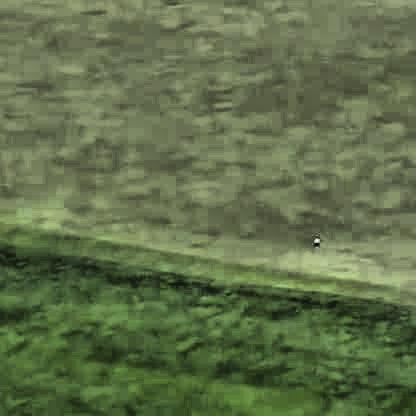golfball: (309, 235, 319, 245)
